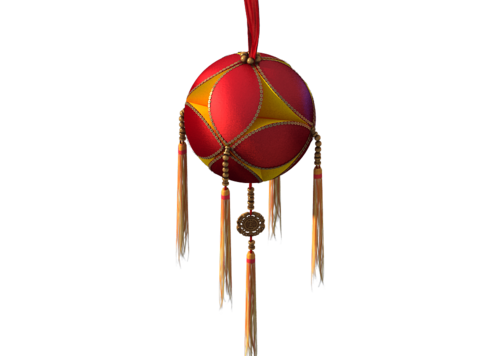xiuqiu: (182, 51, 316, 184)
